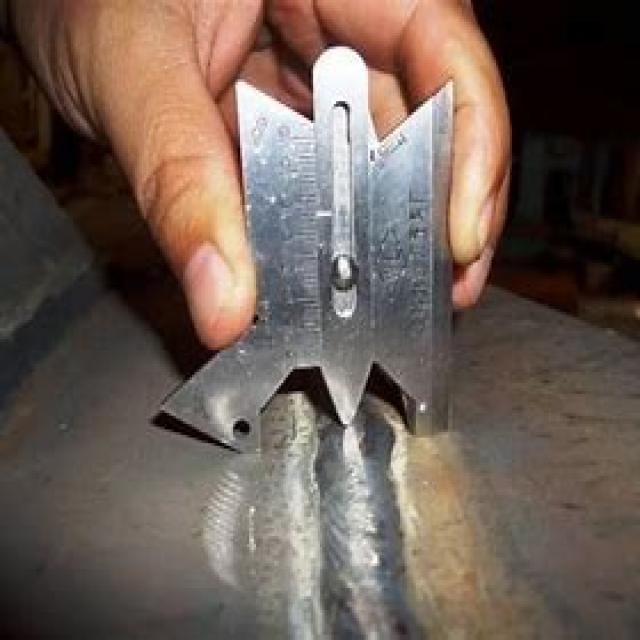Excess Reinforcement: (305, 406, 422, 640)
